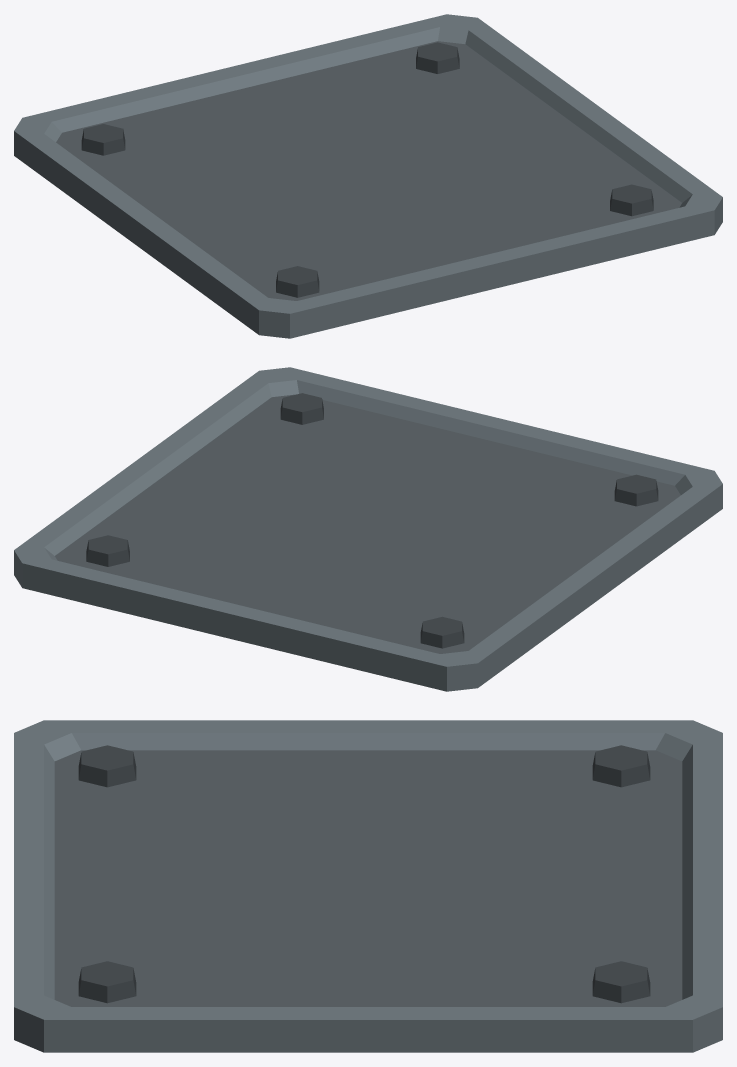
The model's file is SM_Prop_MetalPlate_02.fbx.
The picture shows the model from 3 angles, top to bottom: view 1: azimuth 30°, elevation 25°; view 2: azimuth 150°, elevation 25°; view 3: azimuth 270°, elevation 25°; orthographic projection. The views are drawn at different scales.
Visible parts, largest first — view 1: SM_Prop_MetalPlate_02; view 2: SM_Prop_MetalPlate_02; view 3: SM_Prop_MetalPlate_02.
Part boxes in pixels (box(x1,y1,x2,y2)): SM_Prop_MetalPlate_02: box(14, 14, 722, 338); SM_Prop_MetalPlate_02: box(14, 367, 722, 691); SM_Prop_MetalPlate_02: box(14, 720, 722, 1052).
Bounding box in the file's own units: 100 × 5.53 × 100.
